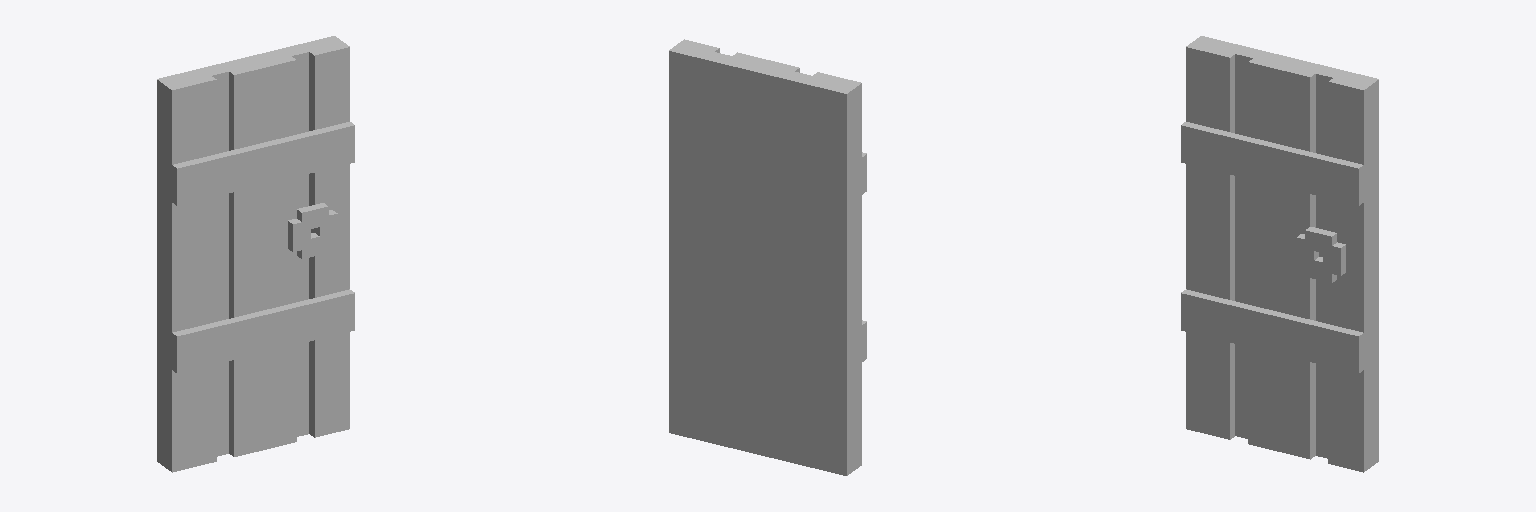
Rendered from goalDoor.obj.
The picture shows the model from 3 angles: view 1: azimuth 30°, elevation 25°; view 2: azimuth 150°, elevation 25°; view 3: azimuth 330°, elevation 25°; orthographic projection.
Parts seen in each view (by area): view 1: Goal; view 2: Goal; view 3: Goal.
Part boxes in pixels (bbox=[...]): Goal: bbox=[157, 36, 354, 472]; Goal: bbox=[669, 39, 866, 475]; Goal: bbox=[1181, 36, 1378, 472].
Bounding box in the file's own units: 1.28 × 2.63 × 0.2567.